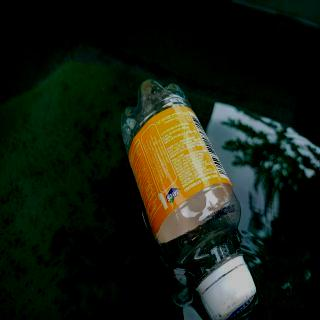bottle: (119, 77, 260, 320)
